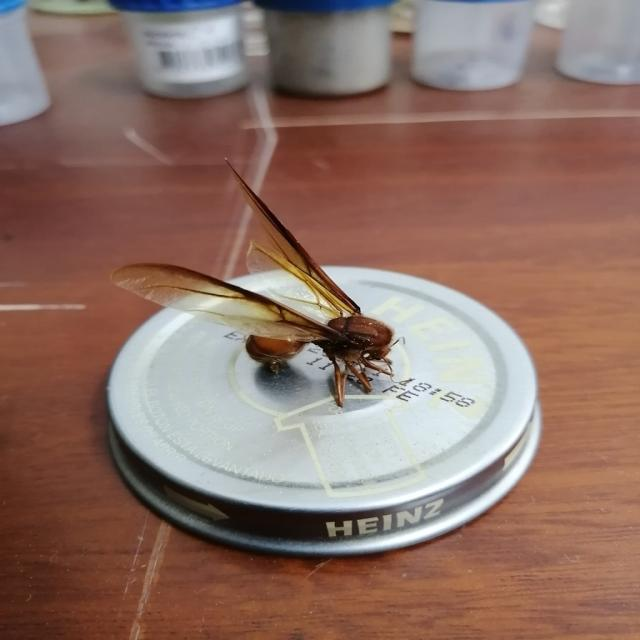Dead-Male-Alate: (111, 158, 416, 408)
